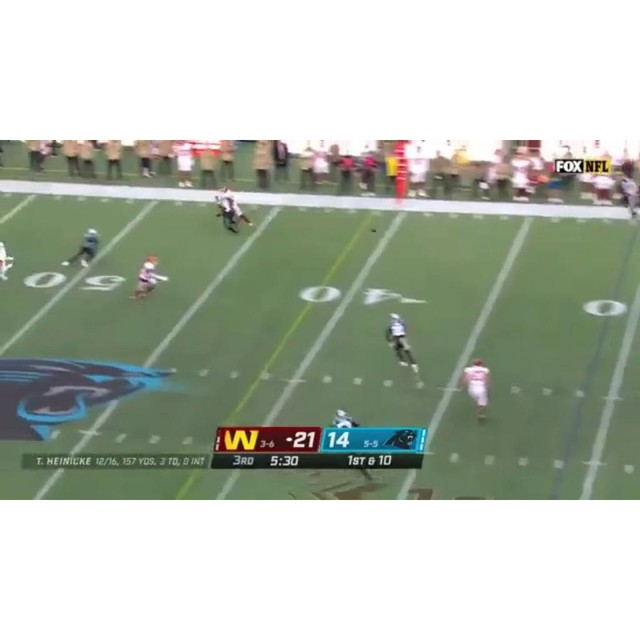american-football-player: (384, 313, 419, 376), (459, 359, 493, 423), (128, 254, 168, 301), (62, 227, 101, 269), (214, 192, 240, 236), (0, 240, 15, 282), (332, 407, 358, 429)
